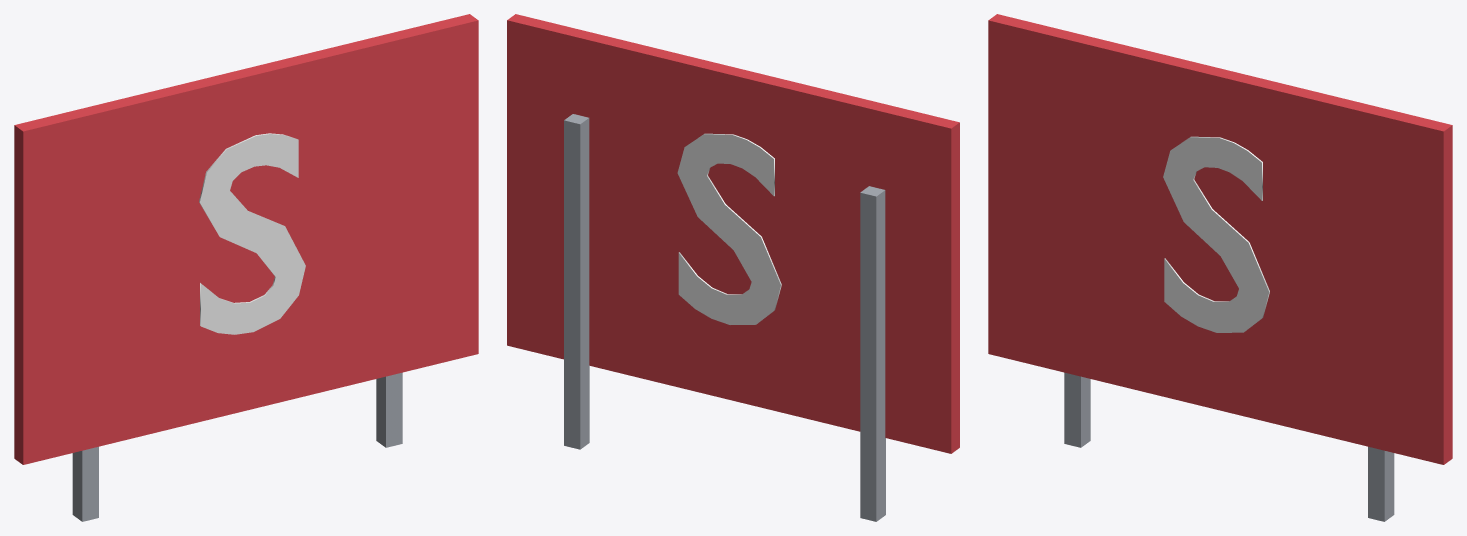
Rendered from setor_S.glb.
3 renders of one model, left to right at view 1: azimuth 30°, elevation 25°; view 2: azimuth 150°, elevation 25°; view 3: azimuth 330°, elevation 25°, orthographic. The views are drawn at different scales.
Visible parts, largest first — view 1: vermelho, t, aco; view 2: vermelho, aco, t.001; view 3: vermelho, t, aco.
Boxes of the visible parts, bbox=[...] form: vermelho: bbox=[14, 14, 478, 464]; t: bbox=[199, 133, 305, 334]; aco: bbox=[72, 372, 402, 521]; vermelho: bbox=[507, 14, 959, 453]; aco: bbox=[564, 114, 885, 521]; t.001: bbox=[677, 133, 781, 324]; vermelho: bbox=[988, 14, 1452, 464]; t: bbox=[1163, 136, 1269, 332]; aco: bbox=[1064, 372, 1394, 521].
Size of the model in its own units: 6 by 5.2 by 0.432.
